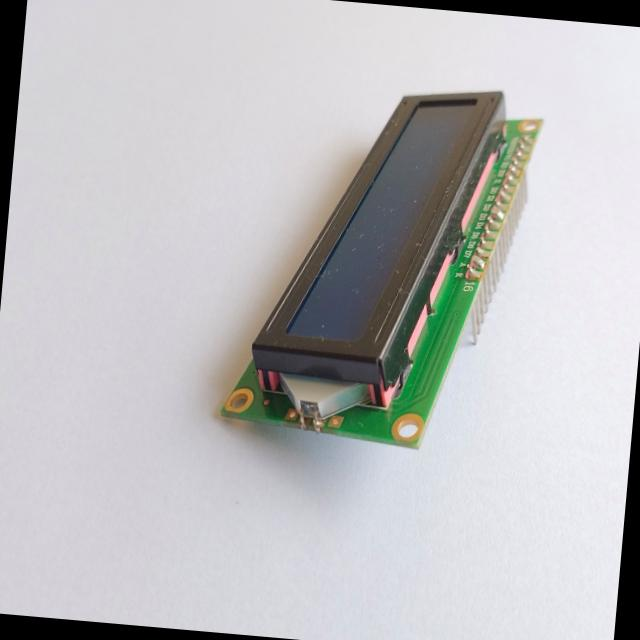lcd: (214, 55, 550, 482)
